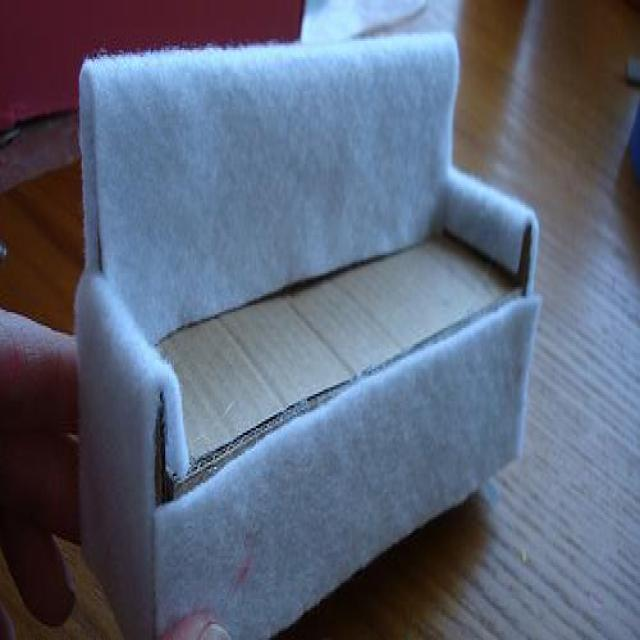sofa: (73, 24, 541, 637)
